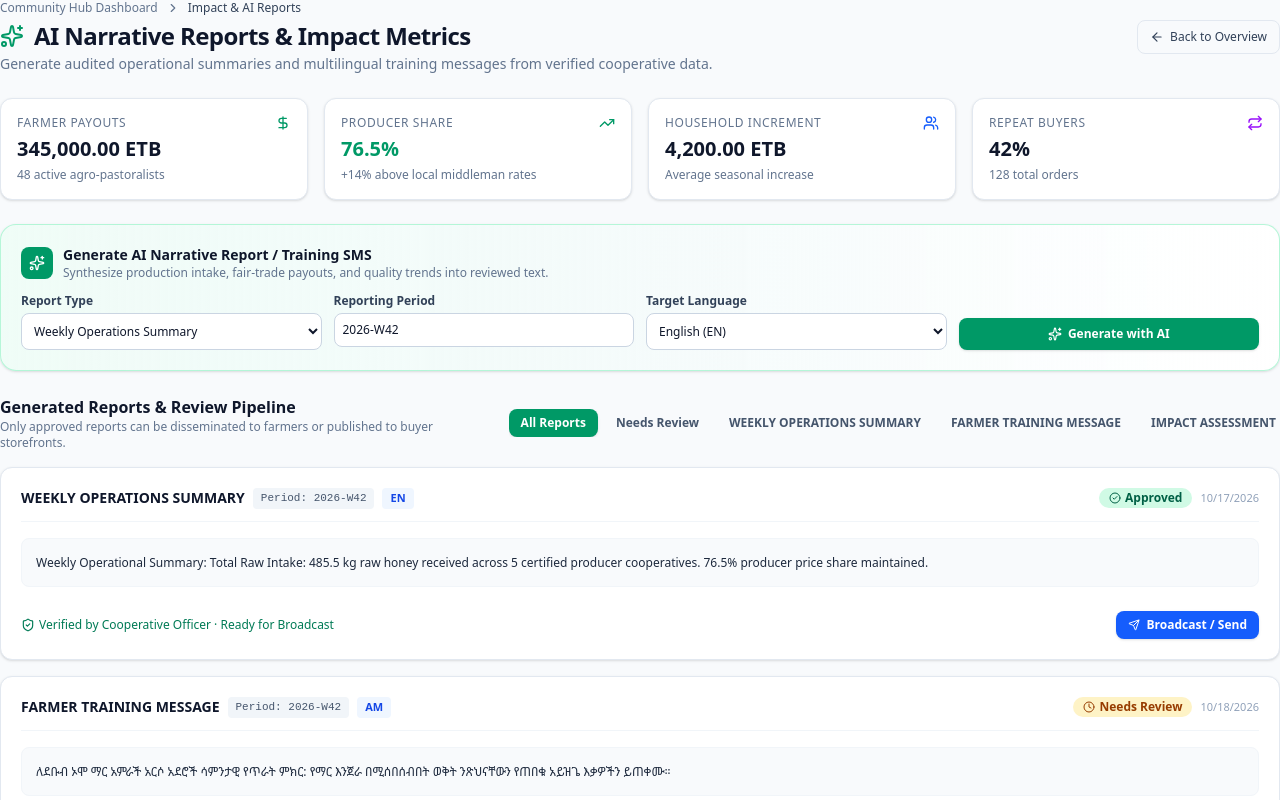
EnterpriseReportsPage Component (F-914) › dissemination control: disabled for GENERATED reports and opens broadcast modal for APPROVED reports
Click the button with test id "btn-broadcast-rep-001". click: {"x": 1188, "y": 625}
box: [1116, 611, 1259, 639]
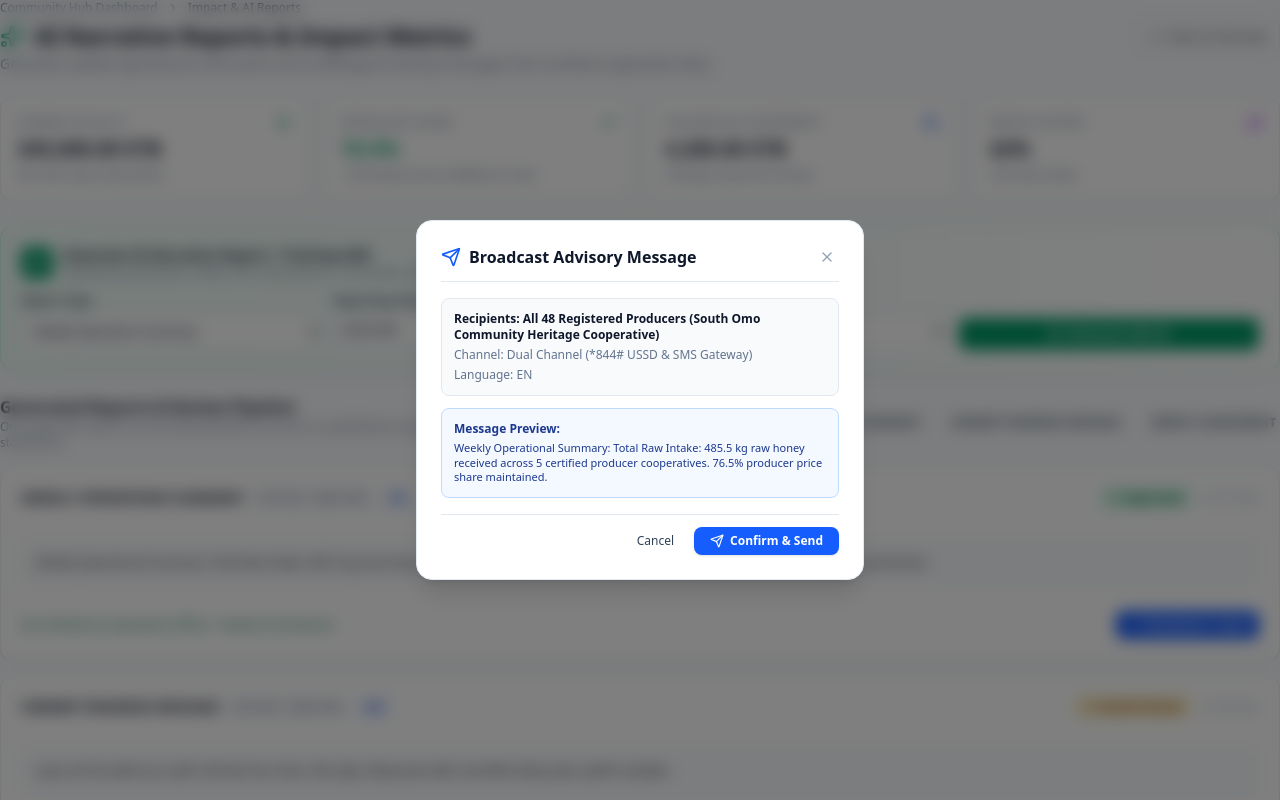
Expected: the element with test id "broadcast-modal" is shown
Expected: the button with test id "confirm-broadcast-btn" is shown
Click the button with test id "confirm-broadcast-btn". click: {"x": 767, "y": 541}
box: [694, 527, 839, 555]
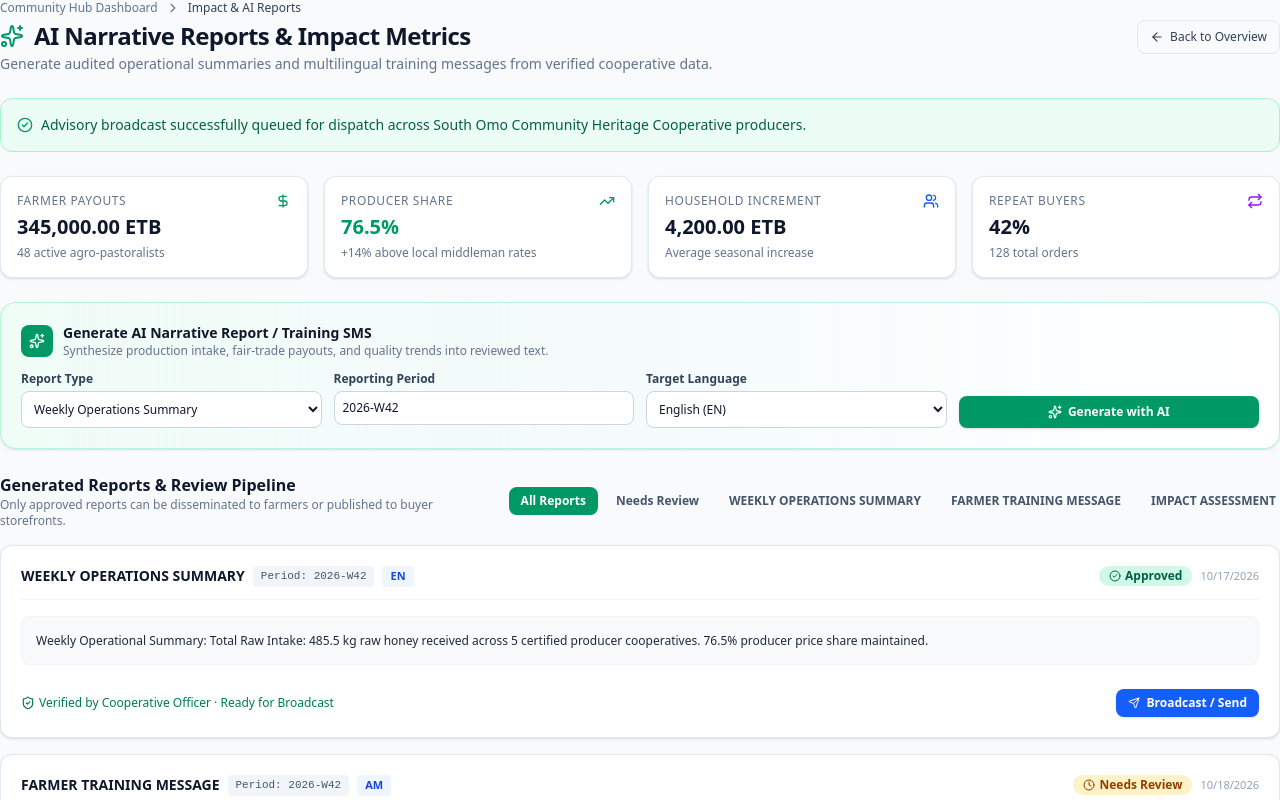
Expected: the element with test id "broadcast-modal" is gone
